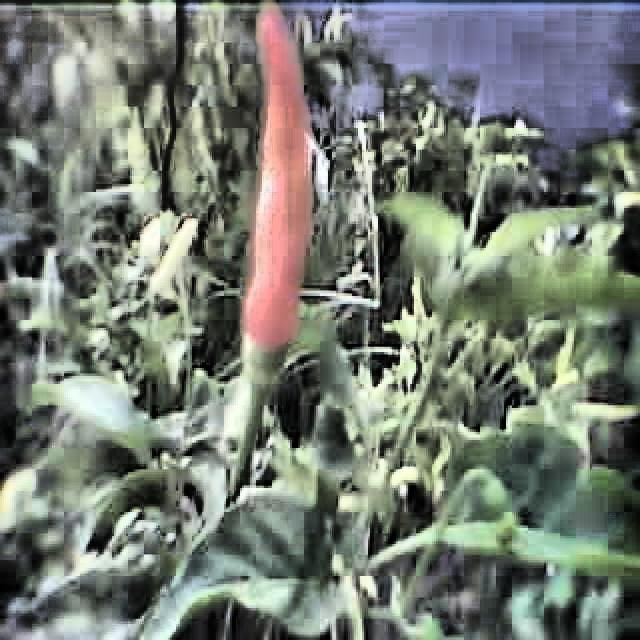Cabai: (239, 3, 344, 359)
